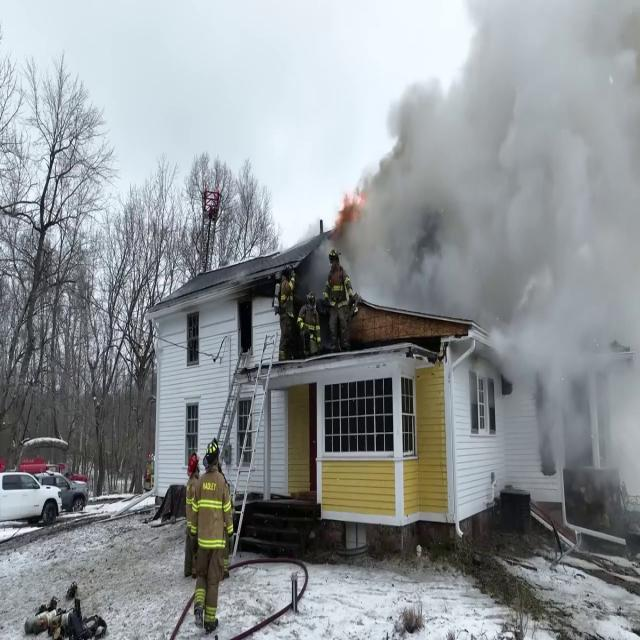Smoke: (316, 0, 640, 318)
